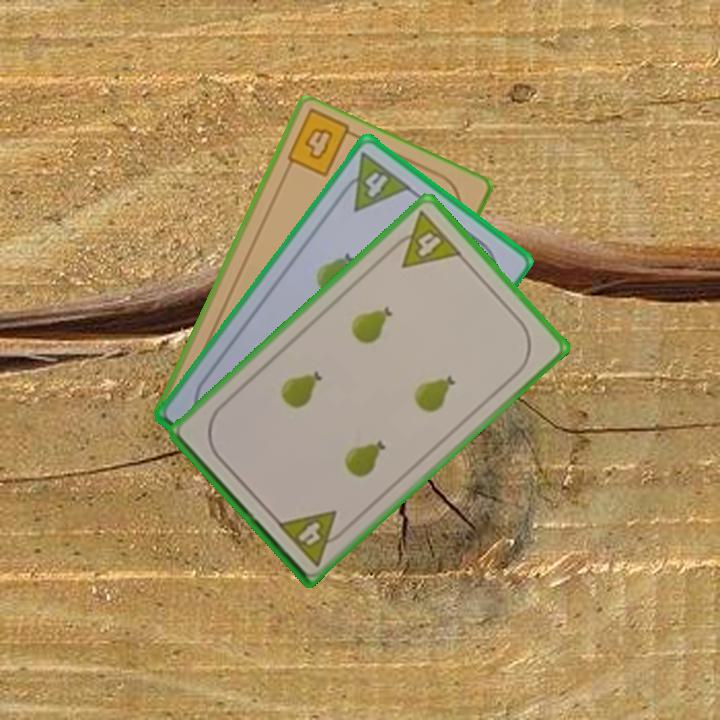4b: (300, 123, 336, 163)
4p: (333, 148, 414, 214), (384, 206, 465, 271), (273, 506, 352, 569)
